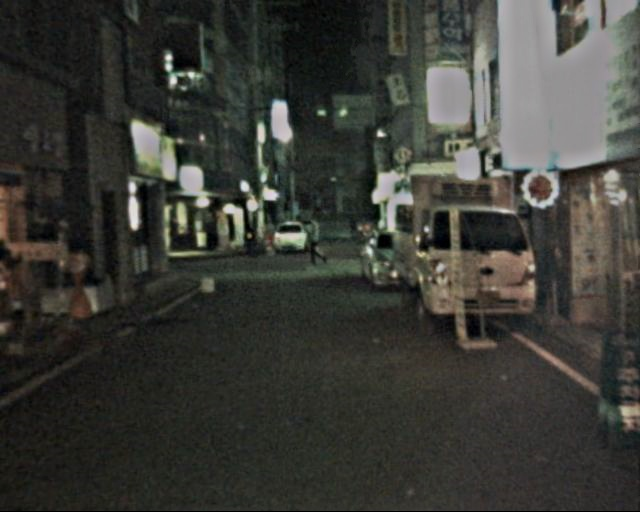person: (301, 217, 326, 271)
